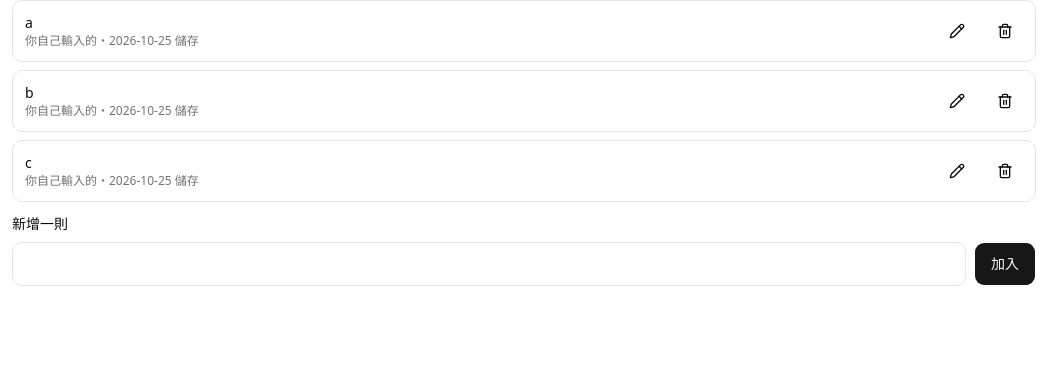
Test: MemoryEditor › edits a note in place
Click the button named "編輯：b" at (957, 101), box top-left (935, 79), bottom-right (979, 123)
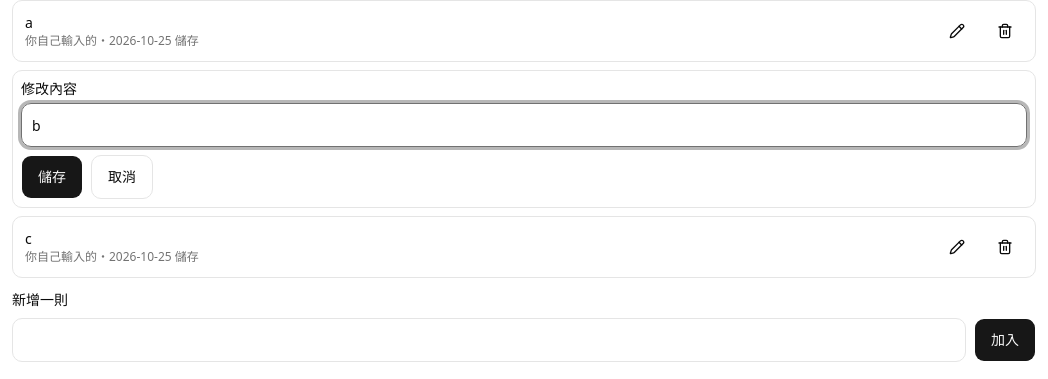
Expected: the field labelled "修改內容" holds "b"
Replace the text in the field labelled "修改內容" with "  新的   內容 " at (524, 125), box top-left (21, 103), bottom-right (1027, 147)
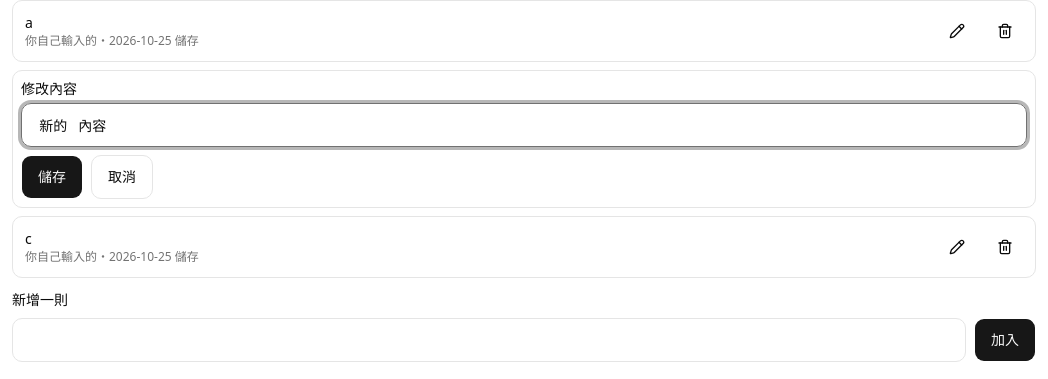
Click the button "儲存" at (52, 177), box top-left (21, 155), bottom-right (83, 199)
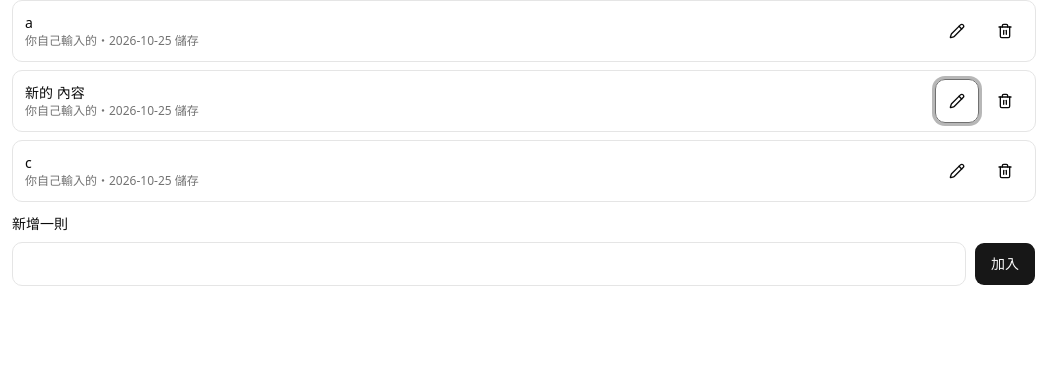
Expected: the label labelled "修改內容" is gone
